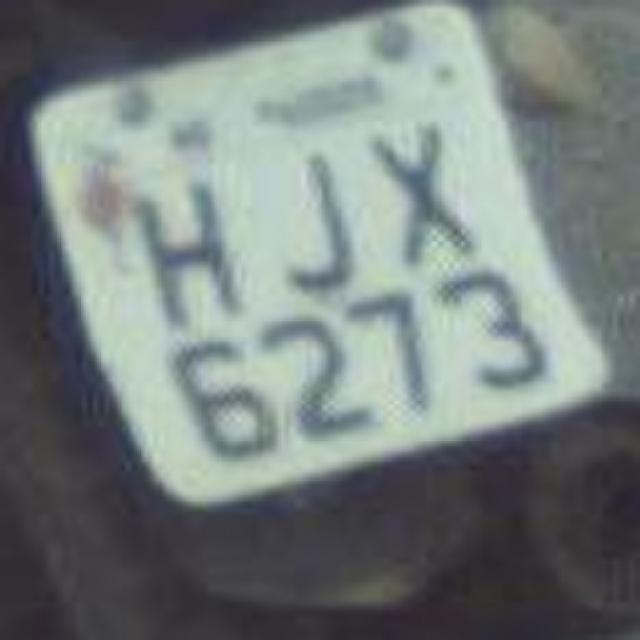2: (240, 296, 385, 449)
3: (412, 244, 560, 408)
6: (155, 312, 280, 472)
7: (348, 280, 448, 415)
H: (136, 160, 249, 335)
X: (365, 109, 480, 276)
